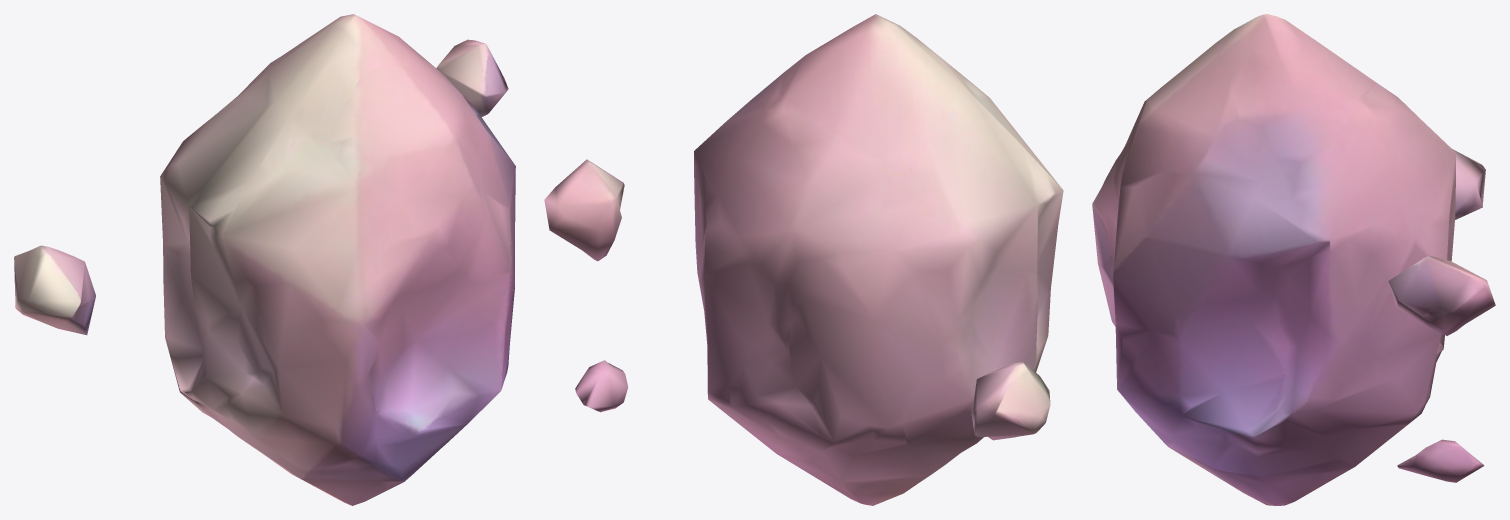
The model's file is heartstone.glb.
3 renders of one model, left to right at view 1: azimuth 30°, elevation 25°; view 2: azimuth 150°, elevation 25°; view 3: azimuth 270°, elevation 25°, orthographic.
Visible parts, largest first — view 1: tripo_node_f63ae750-0af1-4258-ba97-0b4edbc64f29; view 2: tripo_node_f63ae750-0af1-4258-ba97-0b4edbc64f29; view 3: tripo_node_f63ae750-0af1-4258-ba97-0b4edbc64f29.
Boxes of the visible parts, x1,y1,x2,y2 form: tripo_node_f63ae750-0af1-4258-ba97-0b4edbc64f29: [14, 14, 515, 505]; tripo_node_f63ae750-0af1-4258-ba97-0b4edbc64f29: [544, 14, 1063, 505]; tripo_node_f63ae750-0af1-4258-ba97-0b4edbc64f29: [1092, 14, 1495, 505].
Size of the model in its own units: 0.9789 by 0.9362 by 0.6954.
Materials: 1 (1 with a texture image).
